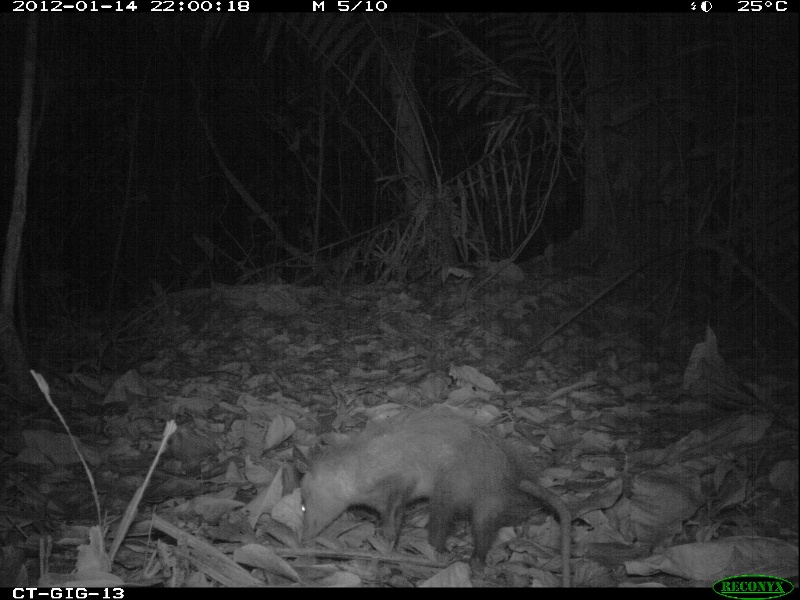opossum: (291, 400, 582, 589)
